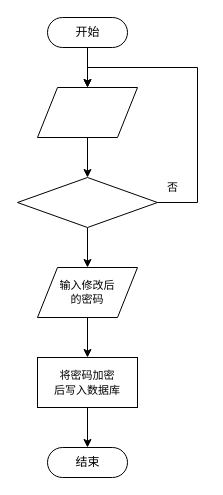
Some shapes in this 223 by 495 pixel diagram are drawn without their labels. The centre of each missing label's shape, as x and y in pixels:
输入需要修改 密码的账号: point (87, 112)
验证当前账号权限: point (87, 202)
